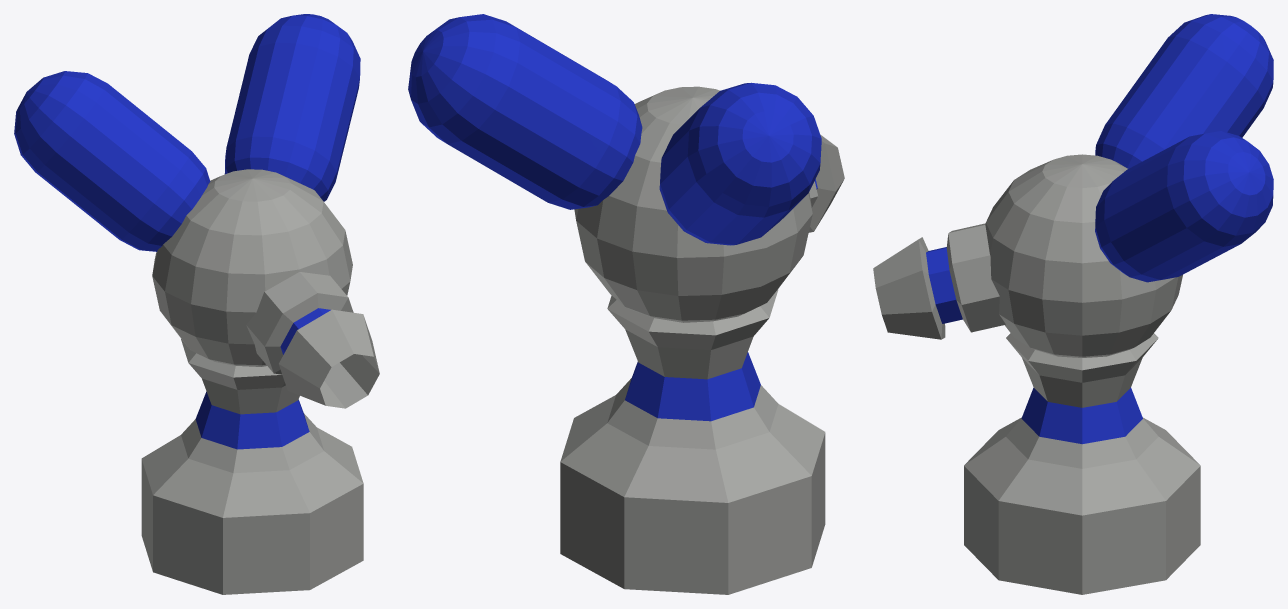
File: Gel_Explosive_Upgraded_Water.fbx
The picture shows the model from 3 angles, left to right: view 1: azimuth 30°, elevation 25°; view 2: azimuth 150°, elevation 25°; view 3: azimuth 270°, elevation 25°; orthographic projection. The views are drawn at different scales.
Visible parts, largest first — view 1: Circle; view 2: Circle; view 3: Circle.
Part boxes in pixels (x1,y1,x2,y2): Circle: (14, 14, 379, 594); Circle: (408, 14, 844, 594); Circle: (873, 14, 1273, 594).
Size of the model in its own units: 515 by 674 by 524.
1 material, 1 textured.
